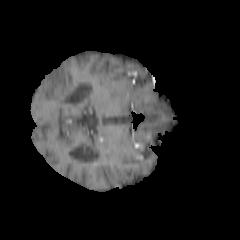glioma: (40, 66, 78, 103)
